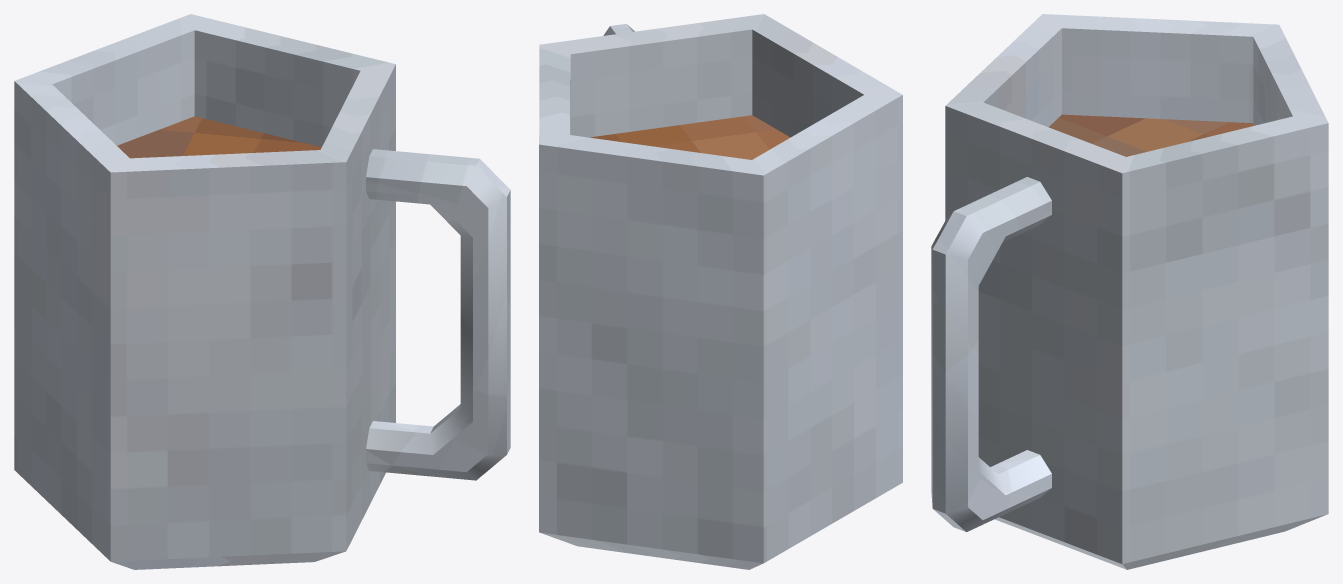
The model's file is SM_Mug.fbx.
The picture shows the model from 3 angles, left to right: view 1: azimuth 30°, elevation 25°; view 2: azimuth 150°, elevation 25°; view 3: azimuth 270°, elevation 25°; orthographic projection.
Parts seen in each view (by area): view 1: SM_Mug; view 2: SM_Mug; view 3: SM_Mug.
Part boxes in pixels (x1,y1,x2,y2): SM_Mug: (14,14,510,569); SM_Mug: (539,14,902,569); SM_Mug: (931,14,1328,569).
Size of the model in its own units: 17.26 by 19.45 by 16.8.
2 materials, 2 textured.
